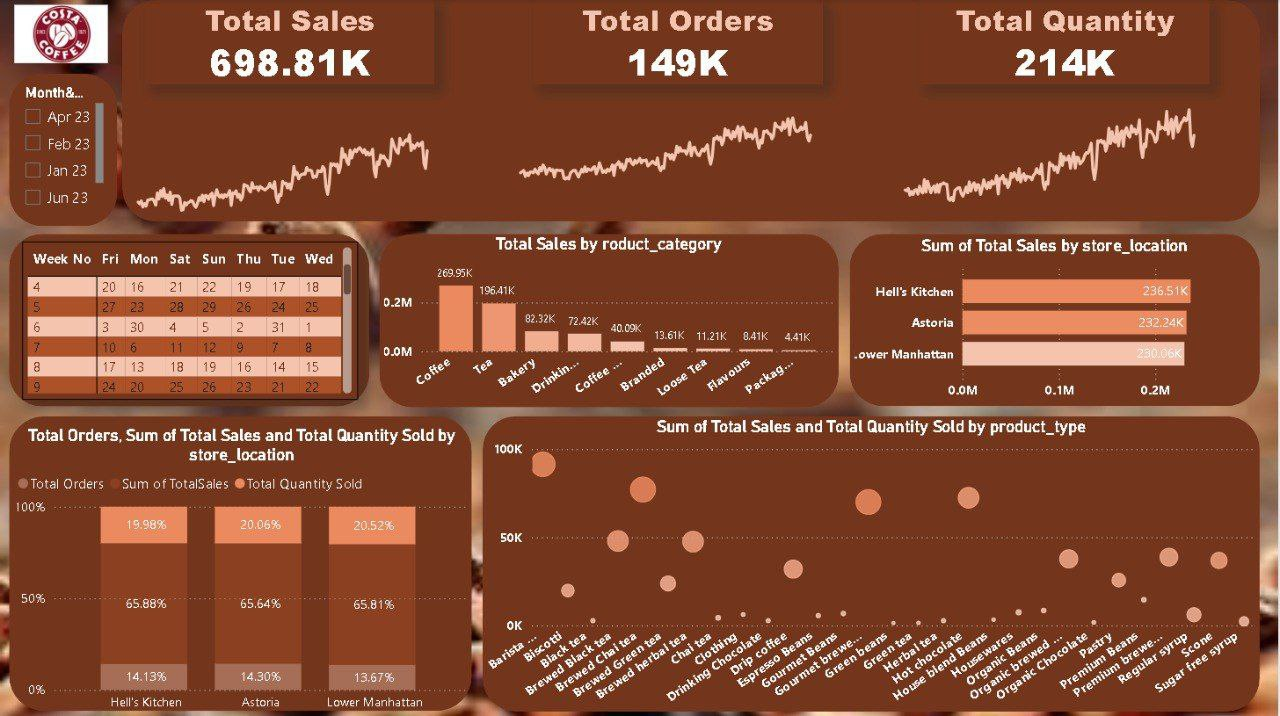

The page's visual inventory and layout, read from the dashboard file:
{"tool":"powerbi","page":{"name":"Main","canvas":[1280,720],"ordinal":0},"visuals":[{"type":"shape","box":[9.9,73.9,108.4,152.8],"z":0},{"type":"shape","box":[851.4,234.1,410.3,172.5],"z":1000},{"type":"shape","box":[484.3,416.5,777.5,295.7],"z":2000},{"type":"shape","box":[9.5,416.7,463.1,295.2],"z":3000},{"type":"shape","box":[380.7,234.1,459.6,173.7],"z":4000},{"type":"shape","box":[9.5,234.5,360.7,172.9],"z":5000},{"type":"image","box":[0,0,123.3,67.9],"z":6000},{"type":"shape","box":[123.2,0,1138.5,221.8],"z":7000},{"type":"card","title":"Total Sales","fields":{"Values":["Sum(Sheet1.TotalSales)"]},"box":[146.4,0,289.3,84.5],"z":8000},{"type":"card","title":"Total Orders","fields":{"Values":["Sheet1.Total Orders"]},"box":[533.9,0,289.3,84.5],"z":9000},{"type":"card","title":"Total Quantity","fields":{"Values":["Sheet1.Total Quantity Sold"]},"box":[921.4,0,289.3,84.5],"z":10000},{"type":"lineChart","fields":{"Y":["Sum(Sheet1.TotalSales)"],"Category":["Date Table.Date.Variation.Date Hierarchy.Year","Date Table.Date.Variation.Date Hierarchy.Quarter","Date Table.Date.Variation.Date Hierarchy.Month","Date Table.Date.Variation.Date Hierarchy.Day"]},"box":[123.8,94,319.3,123.8],"z":11000},{"type":"slicer","fields":{"Values":["Date Table.Month&Year"]},"box":[13.6,78.9,96.1,142.9],"z":12000},{"type":"lineChart","fields":{"Y":["Sheet1.Total Quantity Sold"],"Category":["Date Table.Date.Variation.Date Hierarchy.Year","Date Table.Date.Variation.Date Hierarchy.Quarter","Date Table.Date.Variation.Date Hierarchy.Month","Date Table.Date.Variation.Date Hierarchy.Day"]},"box":[891.7,94,319,123.8],"z":13000},{"type":"lineChart","fields":{"Y":["Sheet1.Total Orders"],"Category":["Date Table.Date.Variation.Date Hierarchy.Year","Date Table.Date.Variation.Date Hierarchy.Quarter","Date Table.Date.Variation.Date Hierarchy.Month","Date Table.Date.Variation.Date Hierarchy.Day"]},"box":[507.3,94,320.2,123.8],"z":14000},{"type":"pivotTable","fields":{"Columns":["Date Table.Day Name"],"Values":["Min(Date Table.Day Number)"],"Rows":["Date Table.WeekNumber"]},"box":[22.6,241.7,335.7,158.3],"z":15000},{"type":"clusteredColumnChart","title":"Total Sales by roduct_category","fields":{"Category":["Sheet1.product_category"],"Y":["Sum(Sheet1.TotalSales)"]},"box":[380.7,234.1,459.6,173.7],"z":16000},{"type":"hundredPercentStackedColumnChart","title":"Total Orders, Sum of Total Sales and Total Quantity Sold by store_location","fields":{"Category":["Sheet1.store_location"],"Y":["Sheet1.Total Orders","Sum(Sheet1.TotalSales)","Sheet1.Total Quantity Sold"]},"box":[13.1,425,459,295.2],"z":17000},{"type":"scatterChart","title":"Sum of Total Sales and Total Quantity Sold by product_type","fields":{"X":["Sheet1.product_type"],"Size":["Sheet1.Total Quantity Sold"],"Y":["Sum(Sheet1.TotalSales)"]},"box":[484.3,416.5,777.5,295.7],"z":18000},{"type":"clusteredBarChart","title":"Sum of Total Sales by store_location","fields":{"Category":["Sheet1.store_location"],"Y":["Sum(Sheet1.TotalSales)"]},"box":[851.4,235.3,410.3,173.7],"z":19000}]}

Visuals, with their boxes in screenshot pixels (x1, y1, x2, y2), scaled from the page's 1280x720 canvas onto the 1280x716 screenshot:
shape: {"left": 10, "top": 73, "right": 118, "bottom": 225}
shape: {"left": 851, "top": 233, "right": 1262, "bottom": 404}
shape: {"left": 484, "top": 414, "right": 1262, "bottom": 708}
shape: {"left": 10, "top": 414, "right": 473, "bottom": 708}
shape: {"left": 381, "top": 233, "right": 840, "bottom": 406}
shape: {"left": 10, "top": 233, "right": 370, "bottom": 405}
image: {"left": 0, "top": 0, "right": 123, "bottom": 68}
shape: {"left": 123, "top": 0, "right": 1262, "bottom": 221}
"Total Sales" card: {"left": 146, "top": 0, "right": 436, "bottom": 84}
"Total Orders" card: {"left": 534, "top": 0, "right": 823, "bottom": 84}
"Total Quantity" card: {"left": 921, "top": 0, "right": 1211, "bottom": 84}
lineChart - Sum(Sheet1.TotalSales) x Date Table.Date.Variation.Date Hierarchy.Year: {"left": 124, "top": 93, "right": 443, "bottom": 217}
slicer - Date Table.Month&Year: {"left": 14, "top": 78, "right": 110, "bottom": 221}
lineChart - Sheet1.Total Quantity Sold x Date Table.Date.Variation.Date Hierarchy.Year: {"left": 892, "top": 93, "right": 1211, "bottom": 217}
lineChart - Sheet1.Total Orders x Date Table.Date.Variation.Date Hierarchy.Year: {"left": 507, "top": 93, "right": 828, "bottom": 217}
pivotTable - Date Table.Day Name x Min(Date Table.Day Number): {"left": 23, "top": 240, "right": 358, "bottom": 398}
"Total Sales by roduct_category" clusteredColumnChart: {"left": 381, "top": 233, "right": 840, "bottom": 406}
"Total Orders, Sum of Total Sales and Total Quantity Sold by store_location" hundredPercentStackedColumnChart: {"left": 13, "top": 423, "right": 472, "bottom": 715}
"Sum of Total Sales and Total Quantity Sold by product_type" scatterChart: {"left": 484, "top": 414, "right": 1262, "bottom": 708}
"Sum of Total Sales by store_location" clusteredBarChart: {"left": 851, "top": 234, "right": 1262, "bottom": 407}
